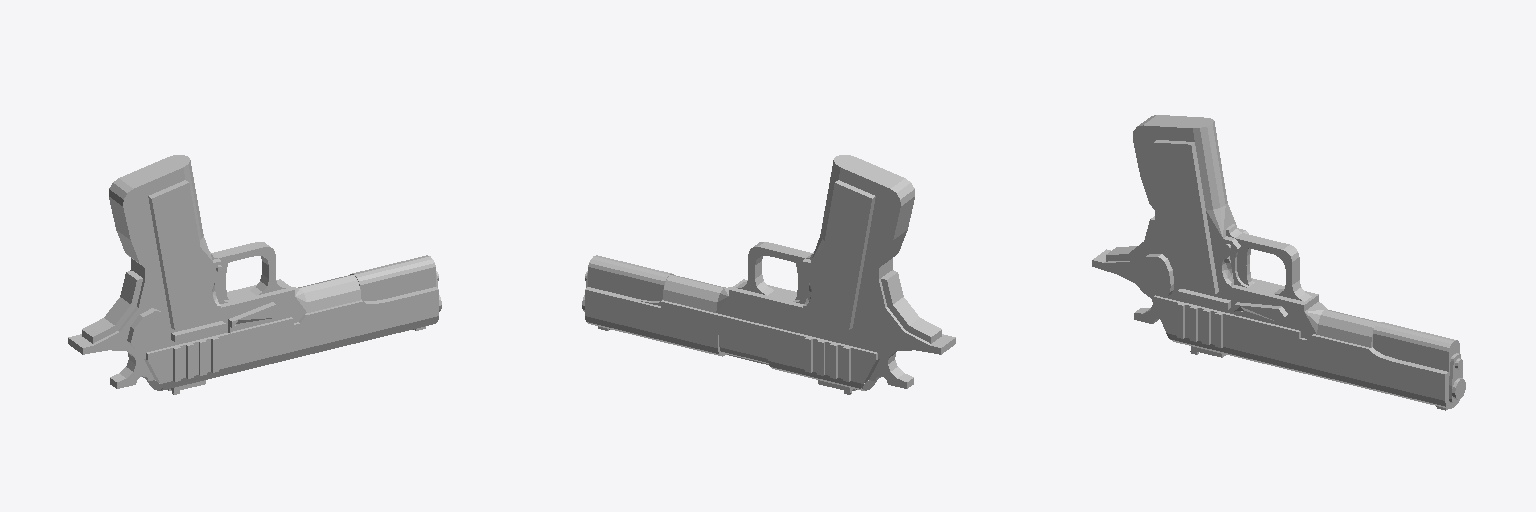
3 renders of one model, left to right at view 1: azimuth 30°, elevation 25°; view 2: azimuth 150°, elevation 25°; view 3: azimuth 330°, elevation 25°, orthographic.
Parts seen in each view (by area): view 1: the_scene/tri_4026_geometry, the_scene/tri_3474_geometry, the_scene/tri_2814_geometry, the_scene/tri_4656_geometry, the_scene/tri_1788_geometry, the_scene/tri_5712_geometry, the_scene/tri_1458_geometry, the_scene/tri_3798_geometry, the_scene/tri_5094_geometry, the_scene/tri_1626_geometry, the_scene/tri_5142_geometry, the_scene/tri_84_geometry (+9 smaller); view 2: the_scene/tri_4026_geometry, the_scene/tri_4704_geometry, the_scene/tri_3474_geometry, the_scene/tri_1968_geometry, the_scene/tri_5712_geometry, the_scene/tri_1458_geometry, the_scene/tri_3294_geometry, the_scene/tri_5094_geometry, the_scene/tri_1626_geometry, the_scene/tri_5142_geometry, the_scene/tri_5262_geometry, the_scene/tri_342_geometry (+6 smaller); view 3: the_scene/tri_4026_geometry, the_scene/tri_3474_geometry, the_scene/tri_4656_geometry, the_scene/tri_1788_geometry, the_scene/tri_3006_geometry, the_scene/tri_5712_geometry, the_scene/tri_1458_geometry, the_scene/tri_2814_geometry, the_scene/tri_3798_geometry, the_scene/tri_5142_geometry, the_scene/tri_84_geometry, the_scene/tri_4704_geometry (+8 smaller).
Part boxes in pixels (left/top/right/bottom): the_scene/tri_4026_geometry: left=148, top=180, right=211, bottom=329; the_scene/tri_3474_geometry: left=306, top=287, right=438, bottom=347; the_scene/tri_2814_geometry: left=126, top=162, right=184, bottom=262; the_scene/tri_4656_geometry: left=133, top=290, right=294, bottom=355; the_scene/tri_1788_geometry: left=182, top=316, right=438, bottom=385; the_scene/tri_5712_geometry: left=161, top=334, right=255, bottom=383; the_scene/tri_1458_geometry: left=359, top=267, right=435, bottom=300; the_scene/tri_3798_geometry: left=301, top=275, right=361, bottom=312; the_scene/tri_5094_geometry: left=109, top=197, right=146, bottom=267; the_scene/tri_1626_geometry: left=82, top=272, right=136, bottom=336; the_scene/tri_5142_geometry: left=146, top=317, right=293, bottom=359; the_scene/tri_84_geometry: left=355, top=256, right=435, bottom=284; the_scene/tri_4026_geometry: left=812, top=180, right=875, bottom=329; the_scene/tri_4704_geometry: left=729, top=279, right=890, bottom=355; the_scene/tri_3474_geometry: left=585, top=287, right=718, bottom=347; the_scene/tri_1968_geometry: left=839, top=162, right=897, bottom=262; the_scene/tri_5712_geometry: left=768, top=334, right=862, bottom=383; the_scene/tri_1458_geometry: left=588, top=267, right=664, bottom=300; the_scene/tri_3294_geometry: left=662, top=275, right=722, bottom=312; the_scene/tri_5094_geometry: left=876, top=197, right=914, bottom=269; the_scene/tri_1626_geometry: left=887, top=272, right=941, bottom=336; the_scene/tri_5142_geometry: left=730, top=317, right=877, bottom=359; the_scene/tri_5262_geometry: left=585, top=316, right=726, bottom=356; the_scene/tri_342_geometry: left=588, top=256, right=668, bottom=284; the_scene/tri_4026_geometry: left=1154, top=140, right=1217, bottom=286; the_scene/tri_3474_geometry: left=1312, top=342, right=1462, bottom=400; the_scene/tri_4656_geometry: left=1143, top=273, right=1303, bottom=331; the_scene/tri_1788_geometry: left=1192, top=341, right=1453, bottom=408; the_scene/tri_3006_geometry: left=1193, top=123, right=1225, bottom=209; the_scene/tri_5712_geometry: left=1166, top=307, right=1260, bottom=355; the_scene/tri_1458_geometry: left=1373, top=334, right=1459, bottom=371; the_scene/tri_2814_geometry: left=1143, top=120, right=1198, bottom=206; the_scene/tri_3798_geometry: left=1317, top=310, right=1377, bottom=347; the_scene/tri_5142_geometry: left=1154, top=295, right=1300, bottom=338; the_scene/tri_84_geometry: left=1373, top=323, right=1453, bottom=351; the_scene/tri_4704_geometry: left=1222, top=259, right=1318, bottom=311.
Bounding box in the file's own units: 23.94 × 14.65 × 2.52.